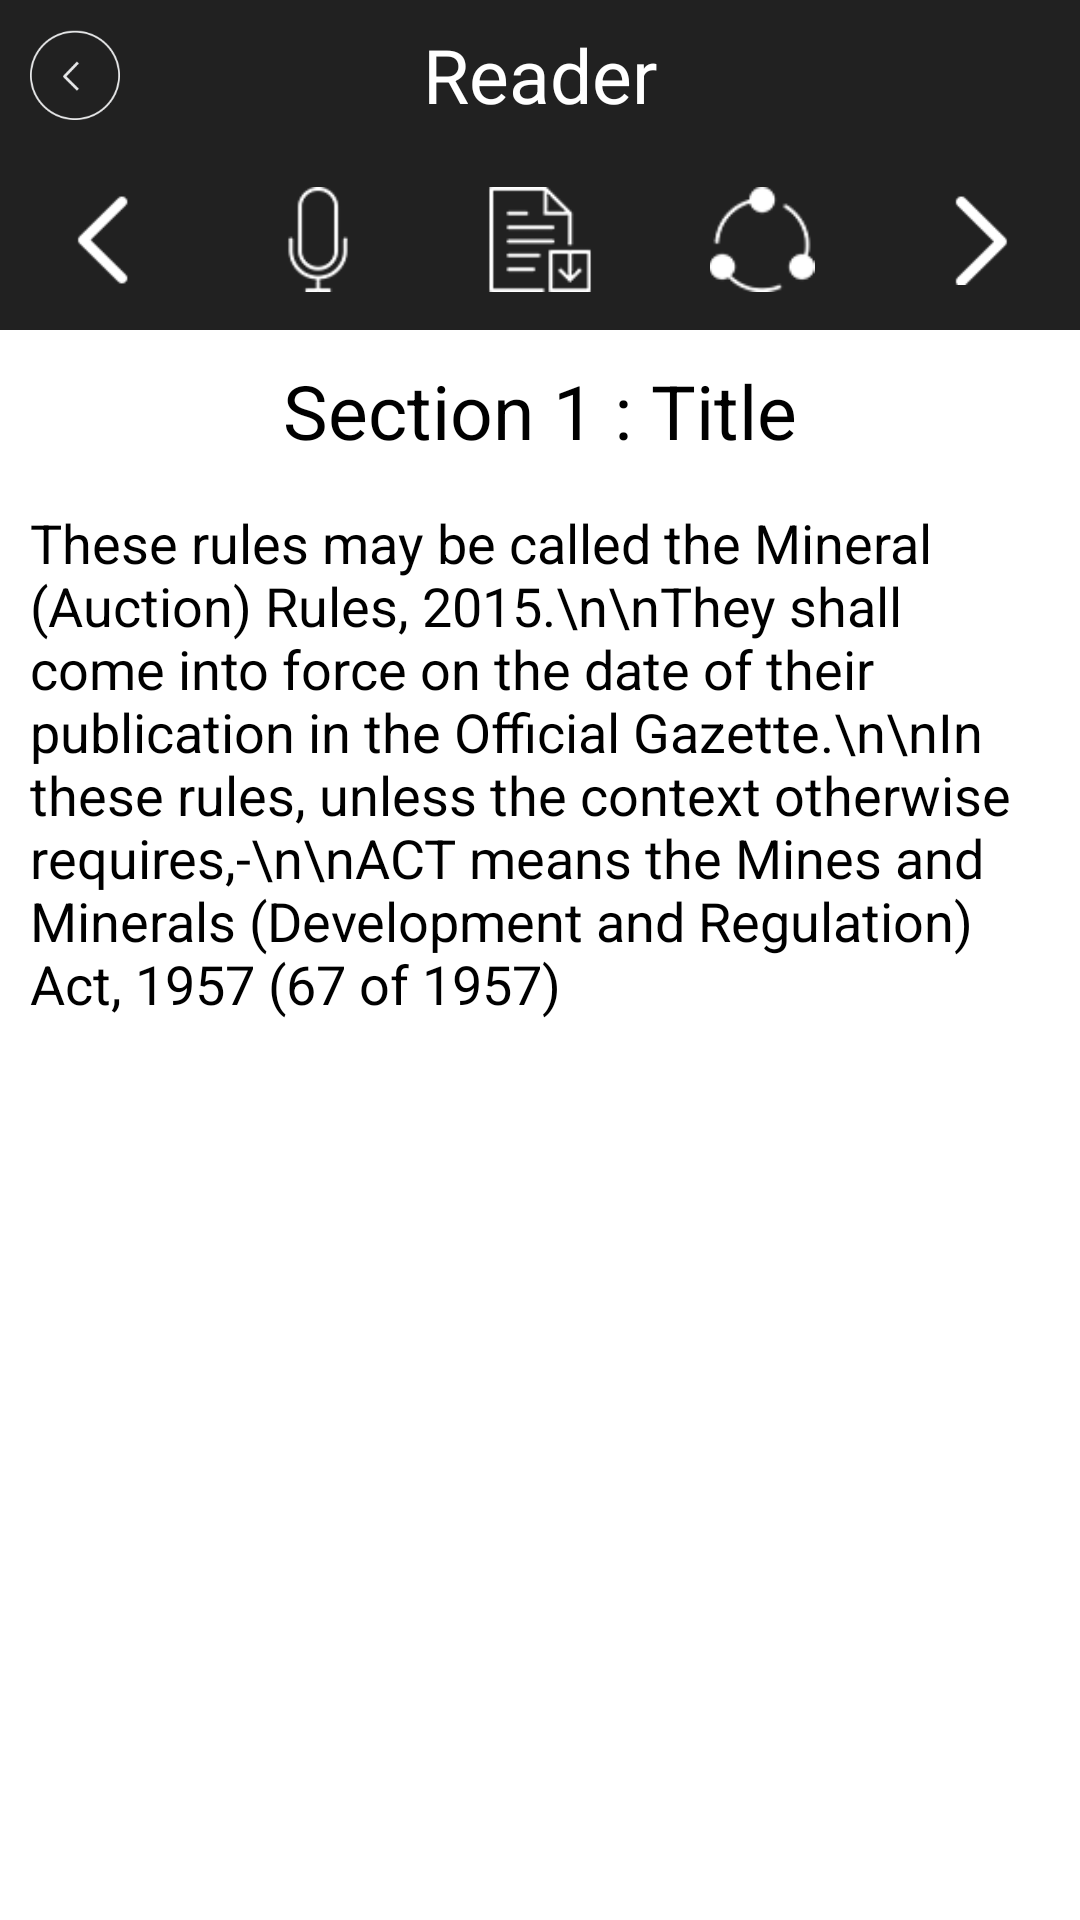

Named icons in this screenshot (1080w x 1920h) and their centers, [x,y]:
back: [75,75]
nextmin: [981,240]
ofldoc: [540,239]
premin: [103,240]
share: [762,239]
voice: [318,239]
